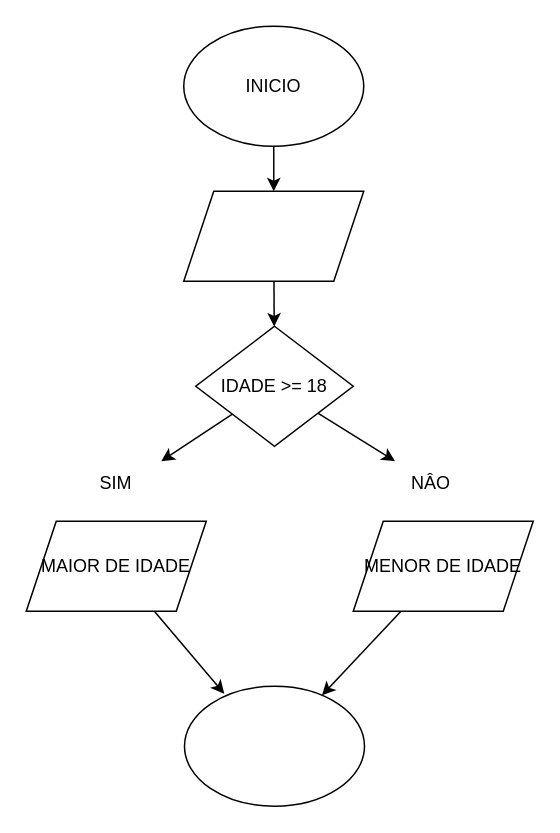
The diagram is 560 pixels wide and 833 high, and some of its shapes have lost their labels. The centre of each missing label's shape, as x and y in pixels:
FIM: the point at 273,745
LER IDADE: the point at 273,235
